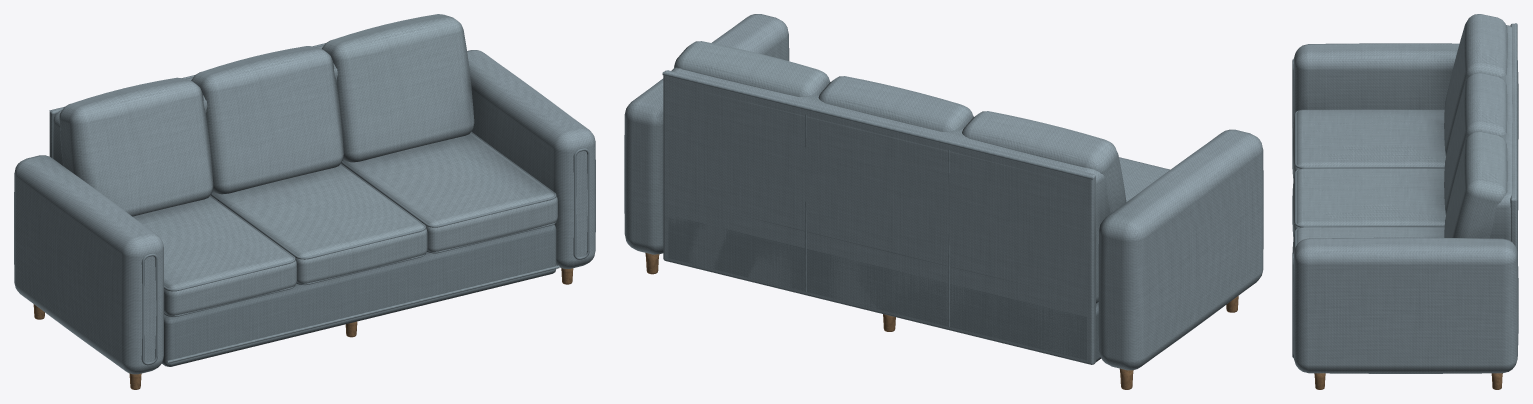
File: int_sofa3.glb
The picture shows the model from 3 angles, left to right: view 1: azimuth 30°, elevation 25°; view 2: azimuth 150°, elevation 25°; view 3: azimuth 270°, elevation 25°; orthographic projection. The views are drawn at different scales.
Parts seen in each view (by area): view 1: estrutura, almofada_assento_1, almofada_assento_2, almofada_assento_0; view 2: estrutura, almofada_assento_0; view 3: estrutura, almofada_assento_0, almofada_assento_1, almofada_assento_2.
Boxes of the visible parts, x1,y1,x2,y2 form: estrutura: [14, 14, 595, 389]; almofada_assento_1: [210, 163, 427, 285]; almofada_assento_2: [341, 131, 557, 253]; almofada_assento_0: [133, 195, 296, 317]; estrutura: [624, 14, 1263, 389]; almofada_assento_0: [1119, 157, 1169, 201]; estrutura: [1292, 14, 1518, 389]; almofada_assento_0: [1292, 109, 1445, 179]; almofada_assento_1: [1292, 168, 1445, 238]; almofada_assento_2: [1292, 227, 1444, 254].
Bounding box in the file's own units: 1.77 × 0.7551 × 0.7926.
2 materials, 2 textured.
